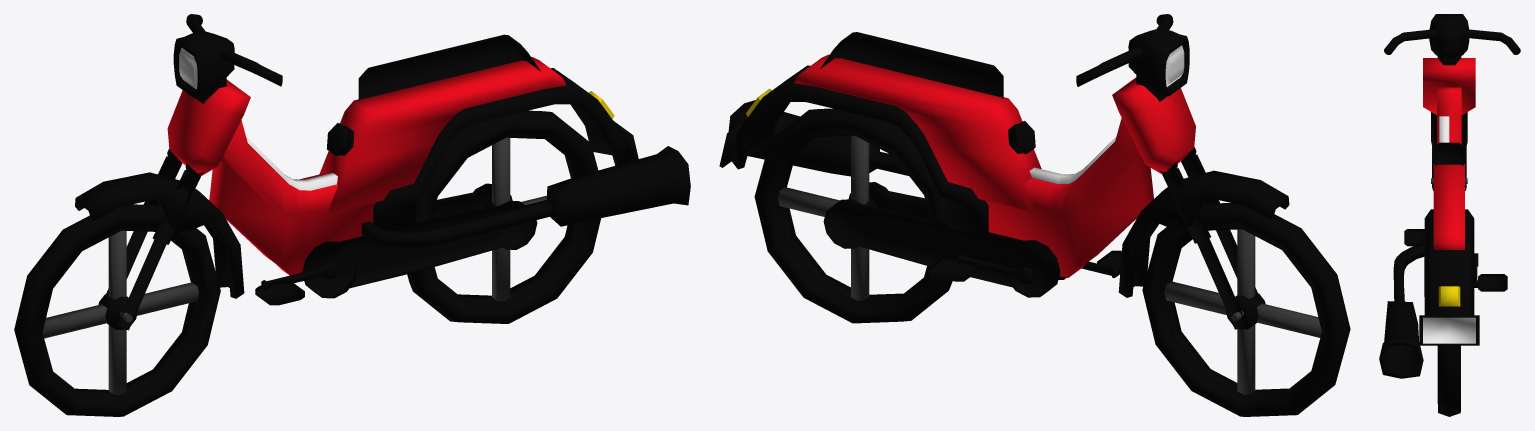
Rendered from vehicle_GodotBike.gltf.
3 views of the same model, side by side, from view 1: azimuth 30°, elevation 25°; view 2: azimuth 150°, elevation 25°; view 3: azimuth 270°, elevation 25° (orthographic). The views are drawn at different scales.
Visible parts, largest first — view 1: Circle.014_Circle.007, Circle.014_Circle.005, Circle.014_Circle.001, Circle.014_Circle.003; view 2: Circle.014_Circle.007, Circle.014_Circle.005, Circle.014_Circle.001, Circle.014_Circle.003; view 3: Circle.014_Circle.007, Circle.014_Circle.001, Circle.014_Circle.003.
Boxes of the visible parts, x1,y1,x2,y2 form: Circle.014_Circle.007: (209, 34, 690, 305); Circle.014_Circle.005: (14, 204, 220, 416); Circle.014_Circle.001: (75, 14, 282, 330); Circle.014_Circle.003: (407, 110, 600, 323); Circle.014_Circle.007: (719, 32, 1153, 297); Circle.014_Circle.005: (1142, 203, 1350, 416); Circle.014_Circle.001: (1076, 14, 1289, 329); Circle.014_Circle.003: (754, 108, 952, 323); Circle.014_Circle.007: (1379, 87, 1507, 378); Circle.014_Circle.001: (1384, 14, 1520, 190); Circle.014_Circle.003: (1437, 345, 1460, 416).
Size of the model in its own units: 9.54 by 5.16 by 2.39.
